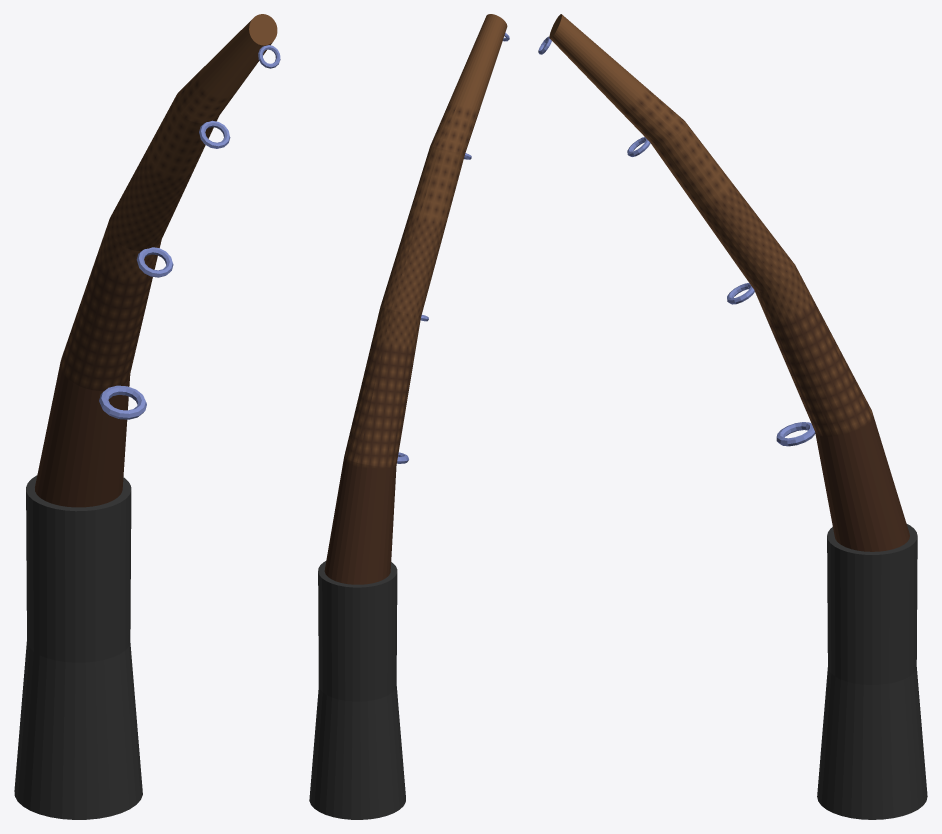
The model's file is Cana.fbx.
3 renders of one model, left to right at view 1: azimuth 30°, elevation 25°; view 2: azimuth 150°, elevation 25°; view 3: azimuth 270°, elevation 25°, orthographic. The views are drawn at different scales.
Visible parts, largest first — view 1: Cana; view 2: Cana; view 3: Cana.
Part boxes in pixels (left/top/right/bottom): Cana: left=14, top=14, right=280, bottom=819; Cana: left=309, top=14, right=509, bottom=819; Cana: left=538, top=14, right=927, bottom=819.
Bounding box in the file's own units: 30.41 × 107 × 237.
3 materials, 1 textured.
